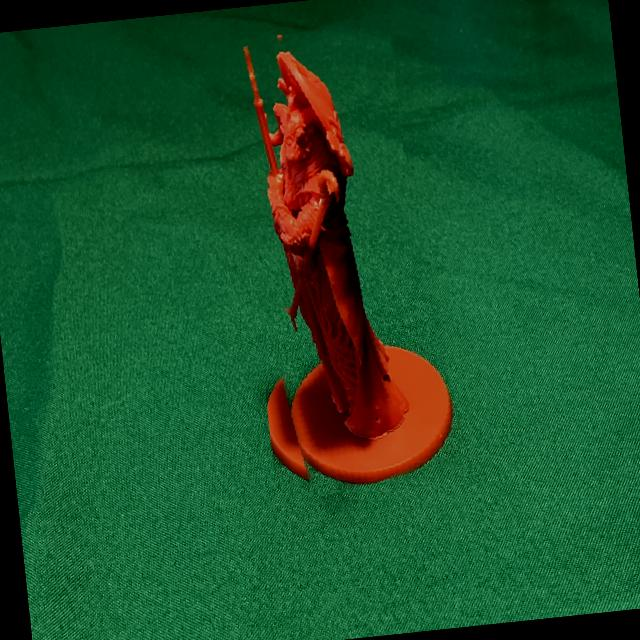amon: (210, 17, 456, 500)
